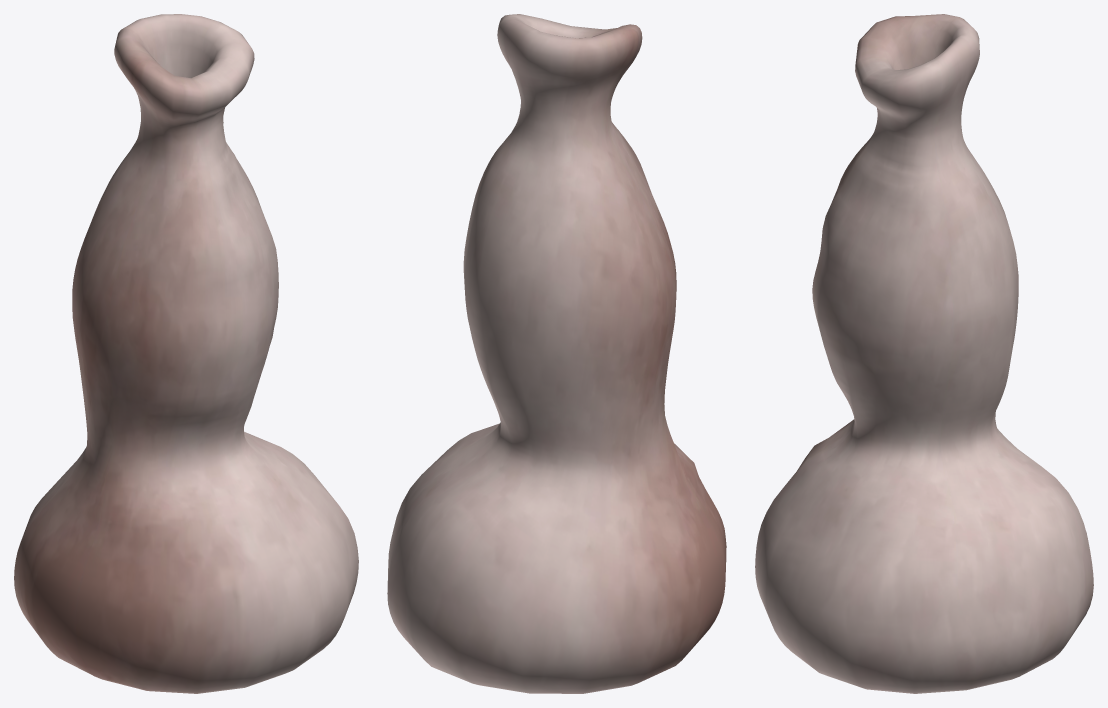
The model's file is vase3-transformed.glb.
3 renders of one model, left to right at view 1: azimuth 30°, elevation 25°; view 2: azimuth 150°, elevation 25°; view 3: azimuth 270°, elevation 25°, orthographic. The views are drawn at different scales.
Visible parts, largest first — view 1: Cube.001; view 2: Cube.001; view 3: Cube.001.
Boxes of the visible parts, x1,y1,x2,y2 form: Cube.001: [14, 14, 358, 693]; Cube.001: [387, 14, 726, 693]; Cube.001: [755, 14, 1093, 693].
Bounding box in the file's own units: 1.63 × 3.3 × 1.65.
Materials: 1 (1 with a texture image).
